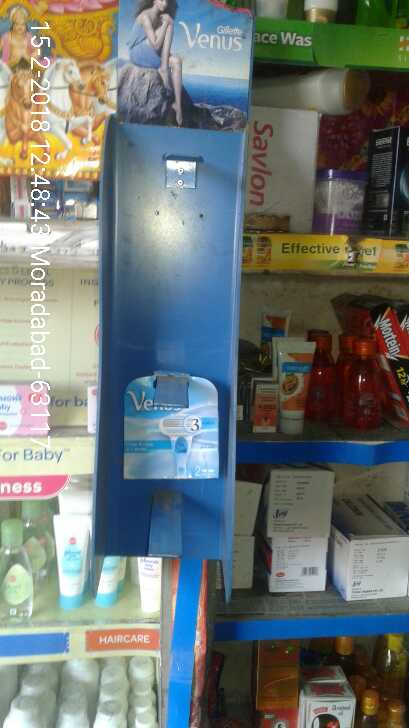venus: (113, 367, 222, 487)
